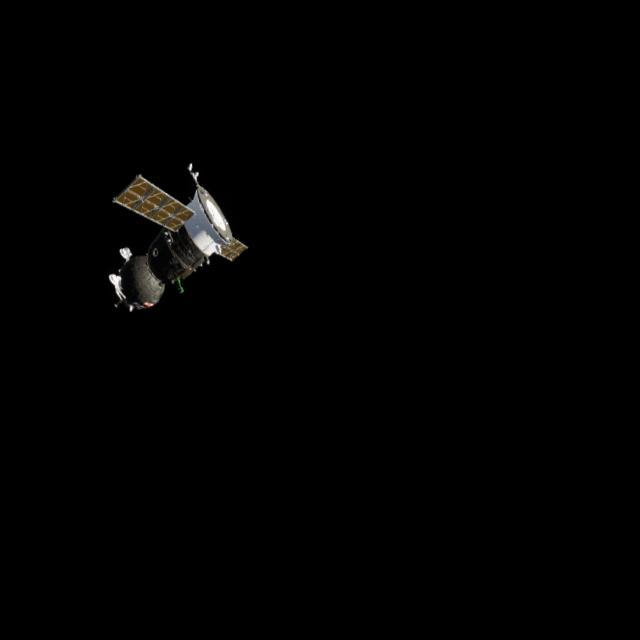Satellites revolving around earth: (87, 152, 257, 319)
